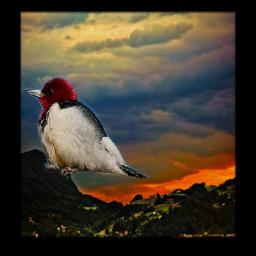Woodpecker: (24, 78, 150, 179)
